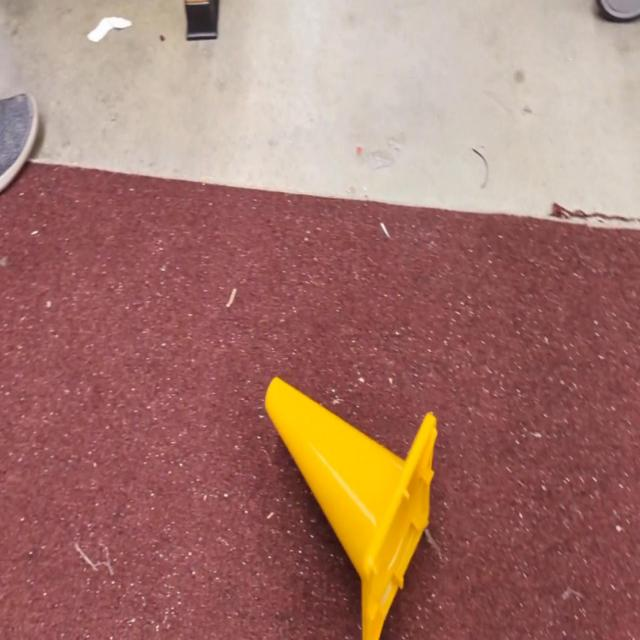frc_cone: (265, 376, 436, 640)
